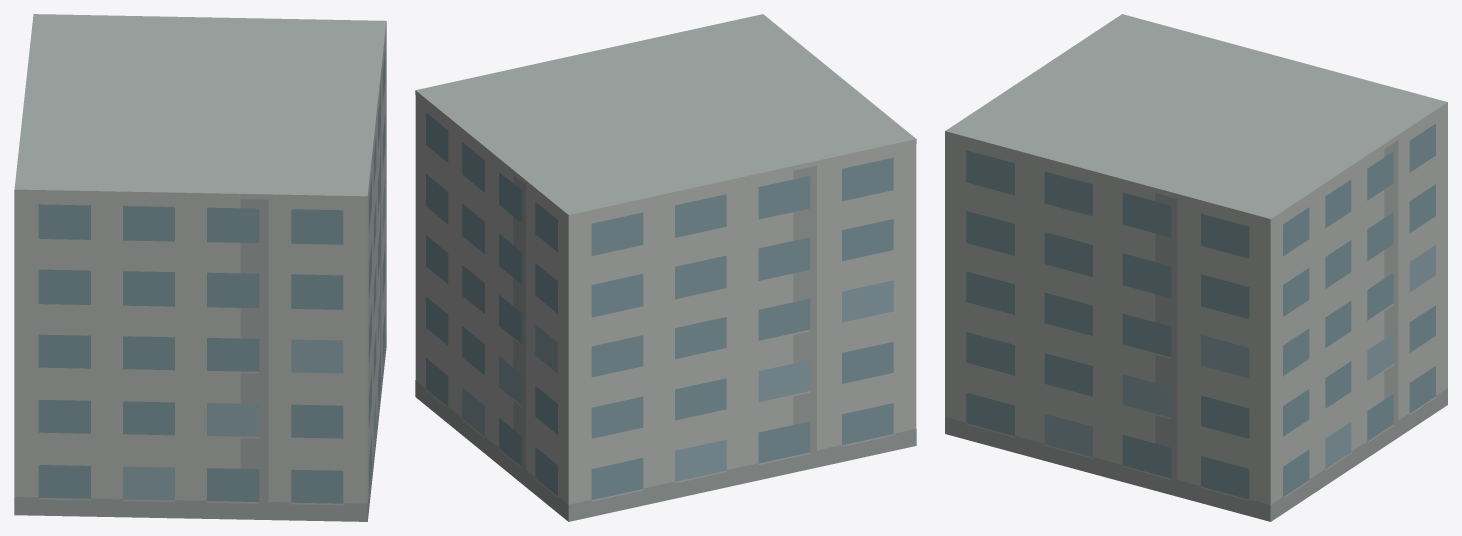
The model's file is residential-c5bf10cc-82c6-4acc-a684-7c6e30564bef.glb.
3 renders of one model, left to right at view 1: azimuth 30°, elevation 25°; view 2: azimuth 150°, elevation 25°; view 3: azimuth 270°, elevation 25°, orthographic. The views are drawn at different scales.
Visible parts, largest first — view 1: residential-c5bf10cc-82c6-4acc-a684-7c6e30564bef.tmp; view 2: residential-c5bf10cc-82c6-4acc-a684-7c6e30564bef.tmp; view 3: residential-c5bf10cc-82c6-4acc-a684-7c6e30564bef.tmp.
Part boxes in pixels (x1=…): residential-c5bf10cc-82c6-4acc-a684-7c6e30564bef.tmp: x1=14, y1=14, x2=386, y2=521; residential-c5bf10cc-82c6-4acc-a684-7c6e30564bef.tmp: x1=415, y1=14, x2=916, y2=521; residential-c5bf10cc-82c6-4acc-a684-7c6e30564bef.tmp: x1=945, y1=14, x2=1447, y2=521.
Bounding box in the file's own units: 22.16 × 15.25 × 22.95.
